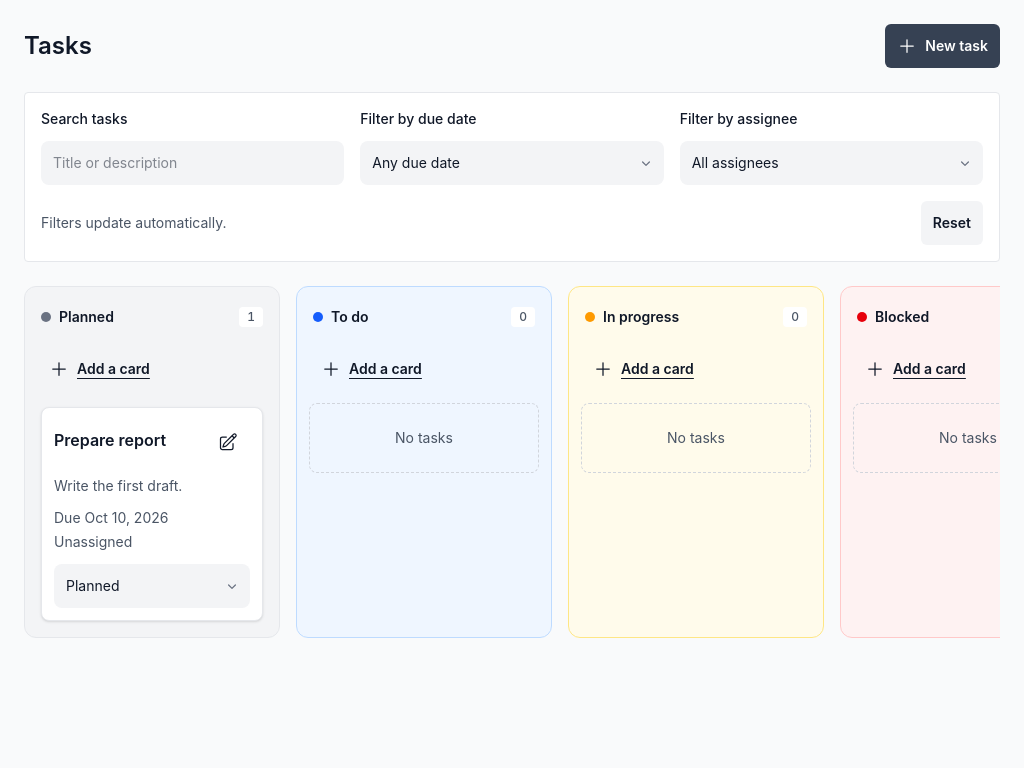
it: creates a new task from the form
Click the button "New task" at (943, 46), box top-left (885, 24), bottom-right (1000, 68)
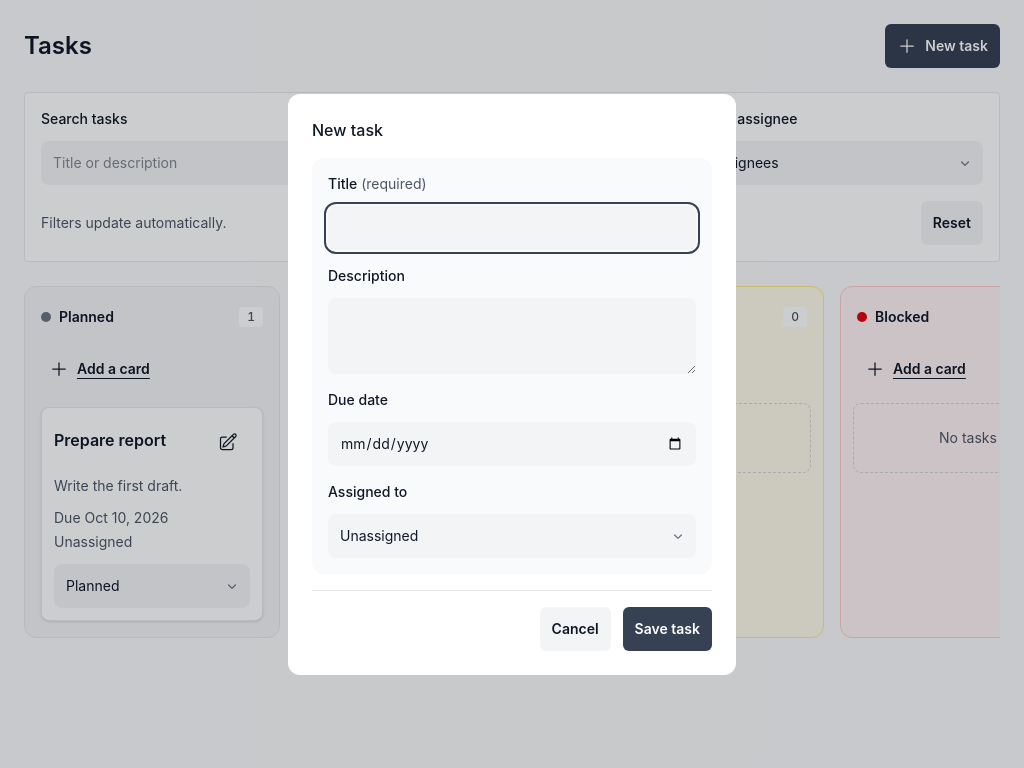
Type "Write tests" into the field labelled "Title" at (512, 228), box top-left (328, 206), bottom-right (696, 250)
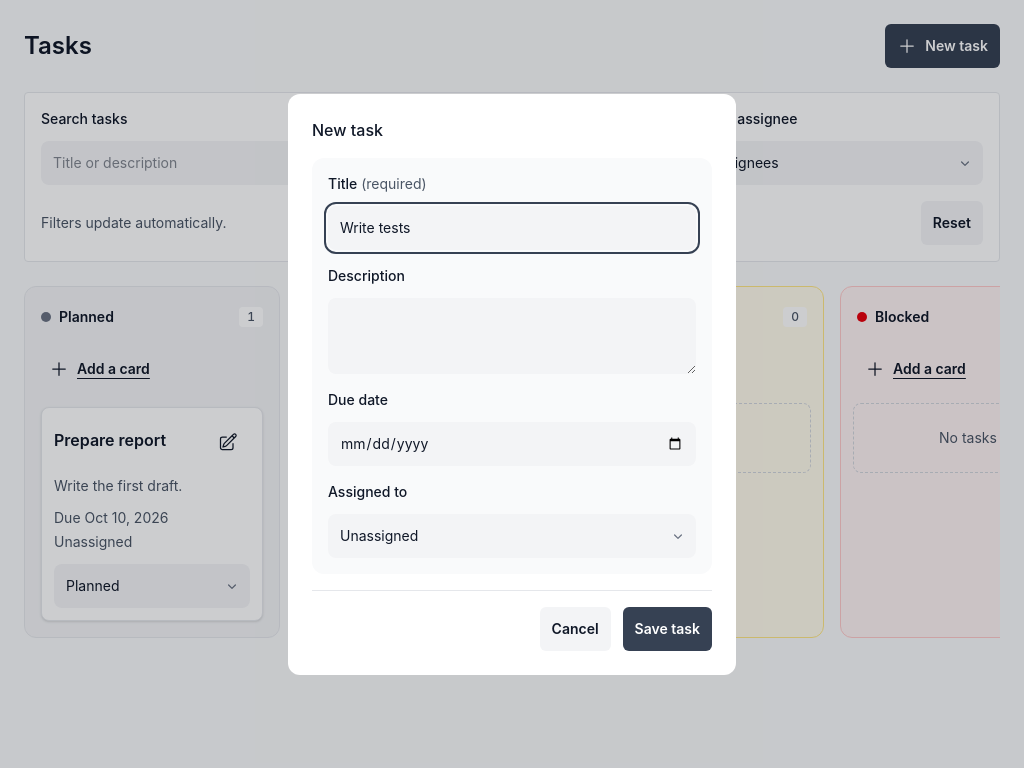
Click the button named "Assigned to" at (379, 535), box top-left (328, 514), bottom-right (696, 558)
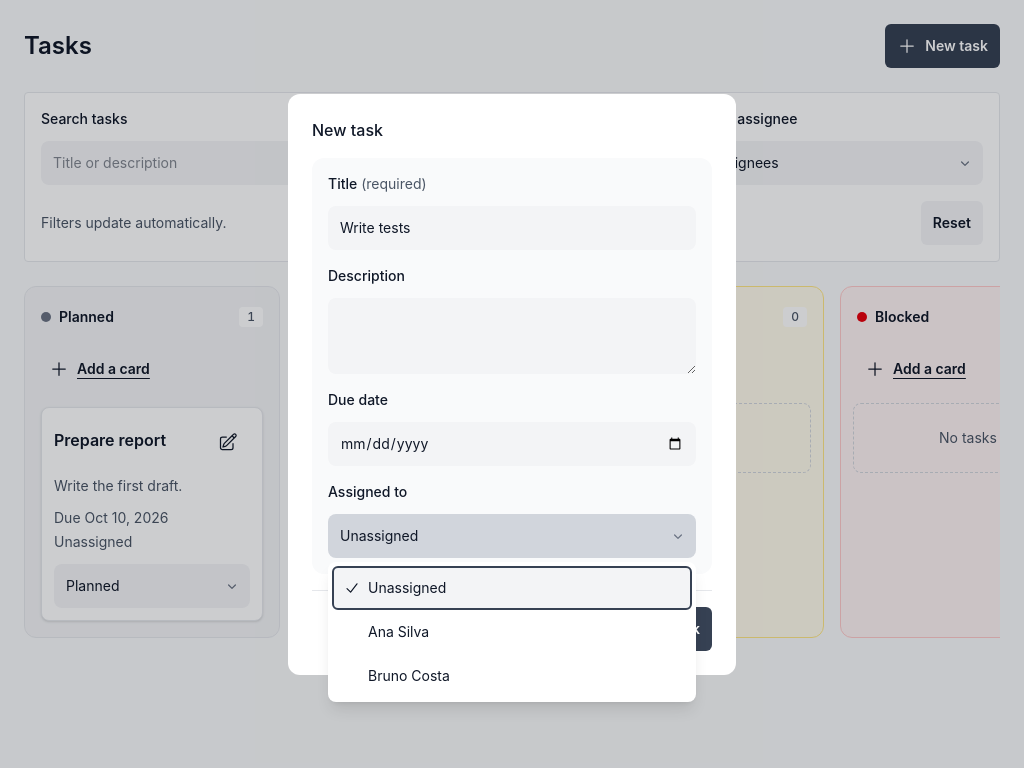
Click the option "Bruno Costa" at (409, 676), box top-left (368, 667), bottom-right (450, 684)
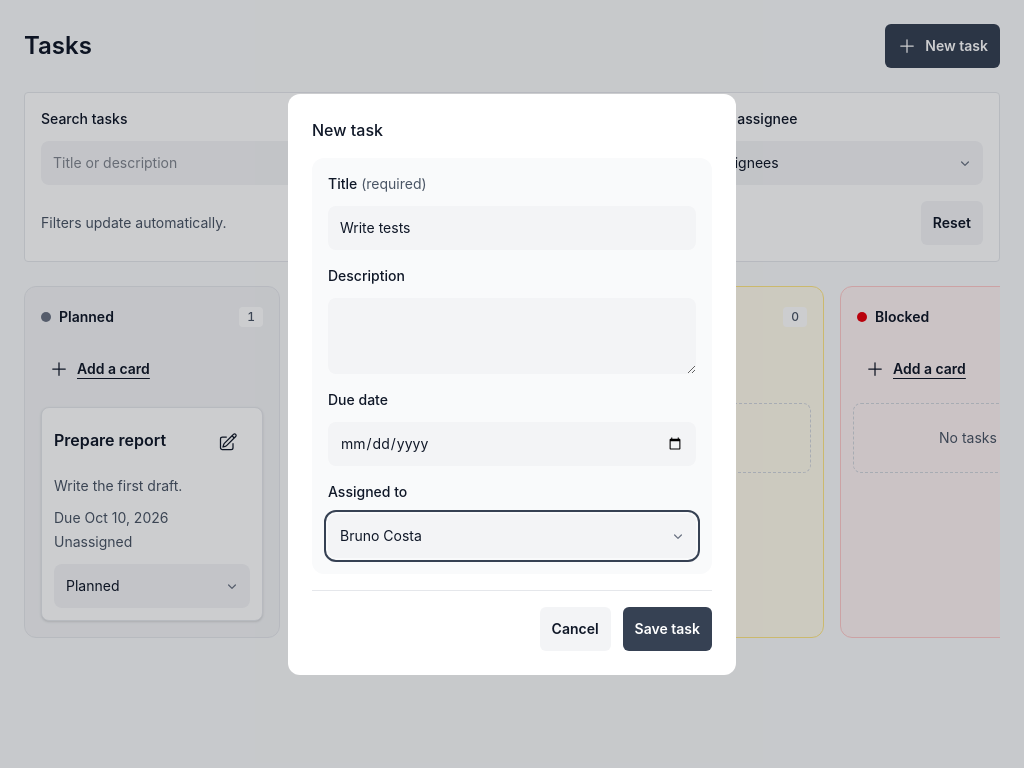
Click the button "Save task" at (667, 628), box top-left (623, 606), bottom-right (712, 650)
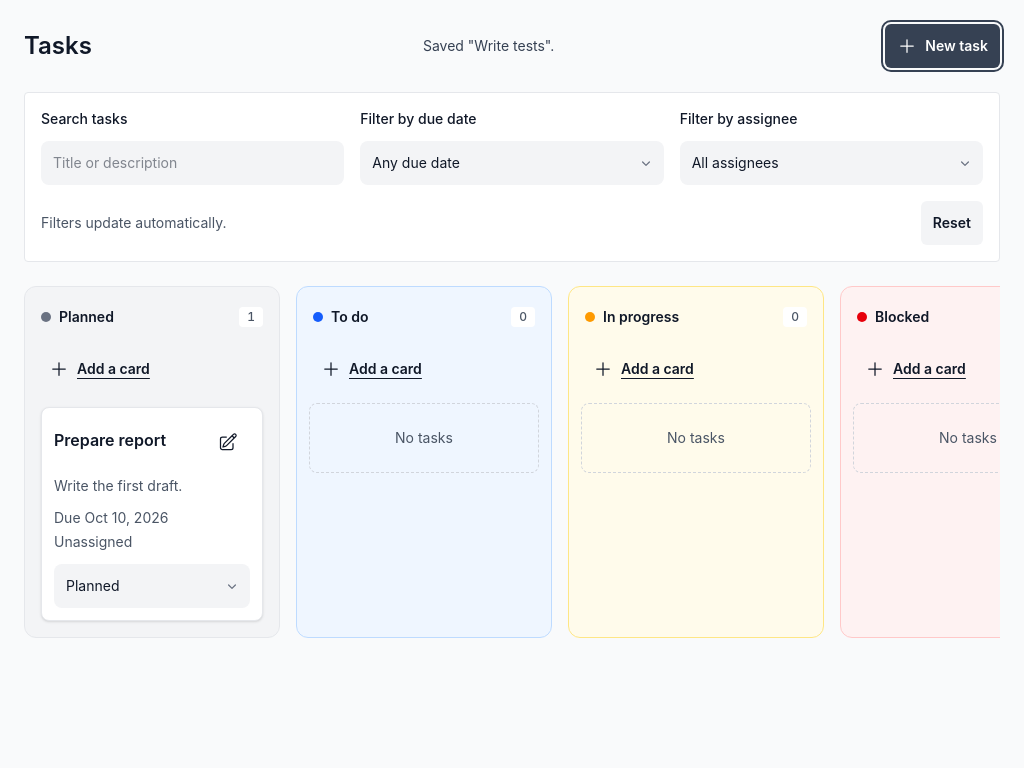
Expected: the text "Saved \"Write tests\"." is shown, top-left (423, 36), bottom-right (554, 56)
